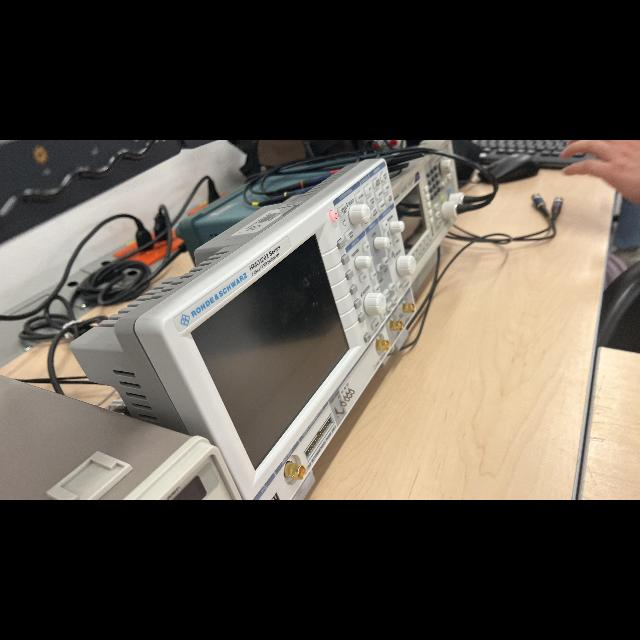Digital-Oscilloscope: (71, 159, 416, 499)
